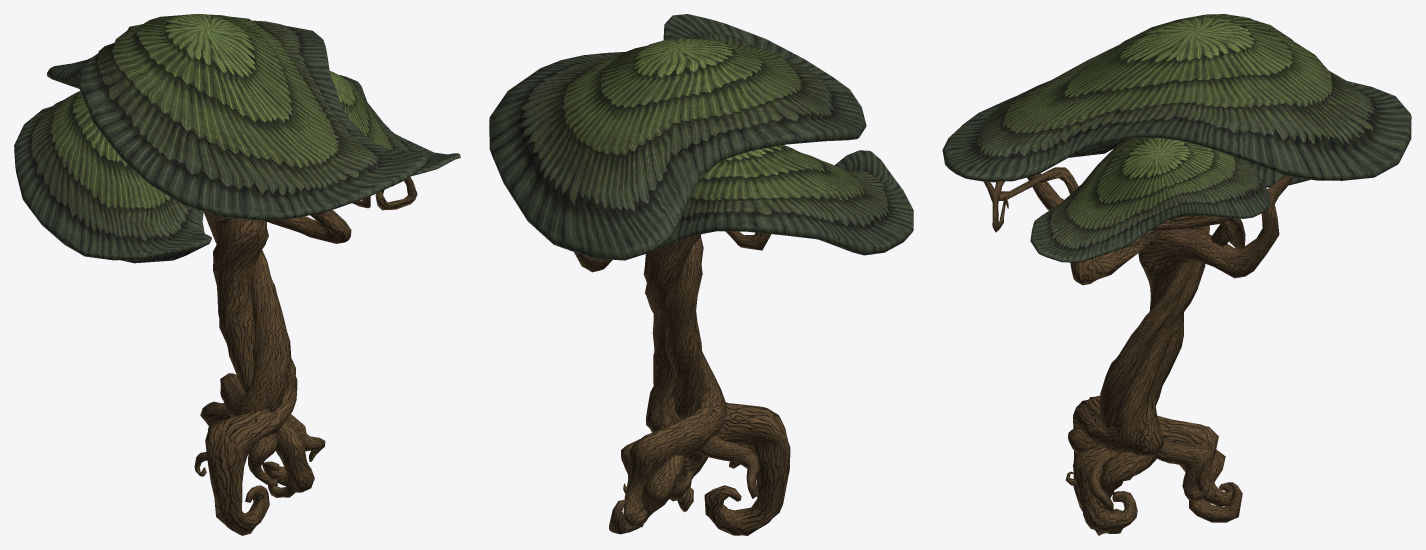
Rendered from oak.fbx.
3 views of the same model, side by side, from view 1: azimuth 30°, elevation 25°; view 2: azimuth 150°, elevation 25°; view 3: azimuth 270°, elevation 25° (orthographic). The views are drawn at different scales.
Visible parts, largest first — view 1: node_id48, node_id46; view 2: node_id48, node_id46; view 3: node_id48, node_id46.
Boxes of the visible parts, <box> form: node_id48: <box>14,14,460,263</box>; node_id46: <box>194,177,417,535</box>; node_id48: <box>489,14,913,260</box>; node_id46: <box>574,231,790,535</box>; node_id48: <box>942,14,1411,262</box>; node_id46: <box>983,167,1294,535</box>.
Size of the model in its own units: 0.4085 by 0.512 by 0.43.
2 materials, 2 textured.
